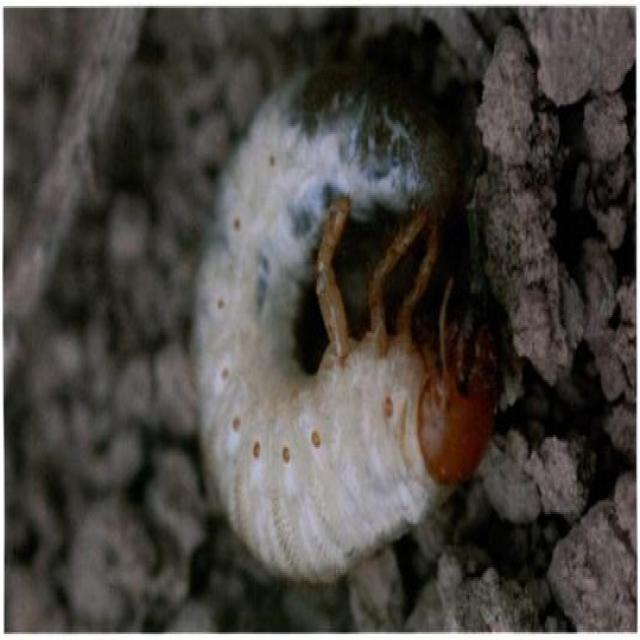grub: (186, 94, 488, 590)
